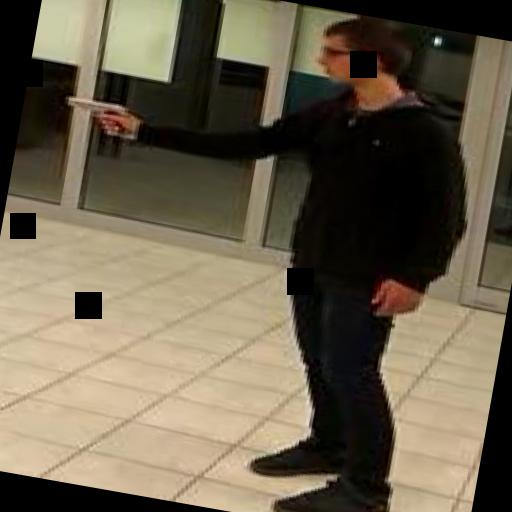Handgun: (56, 91, 140, 140)
